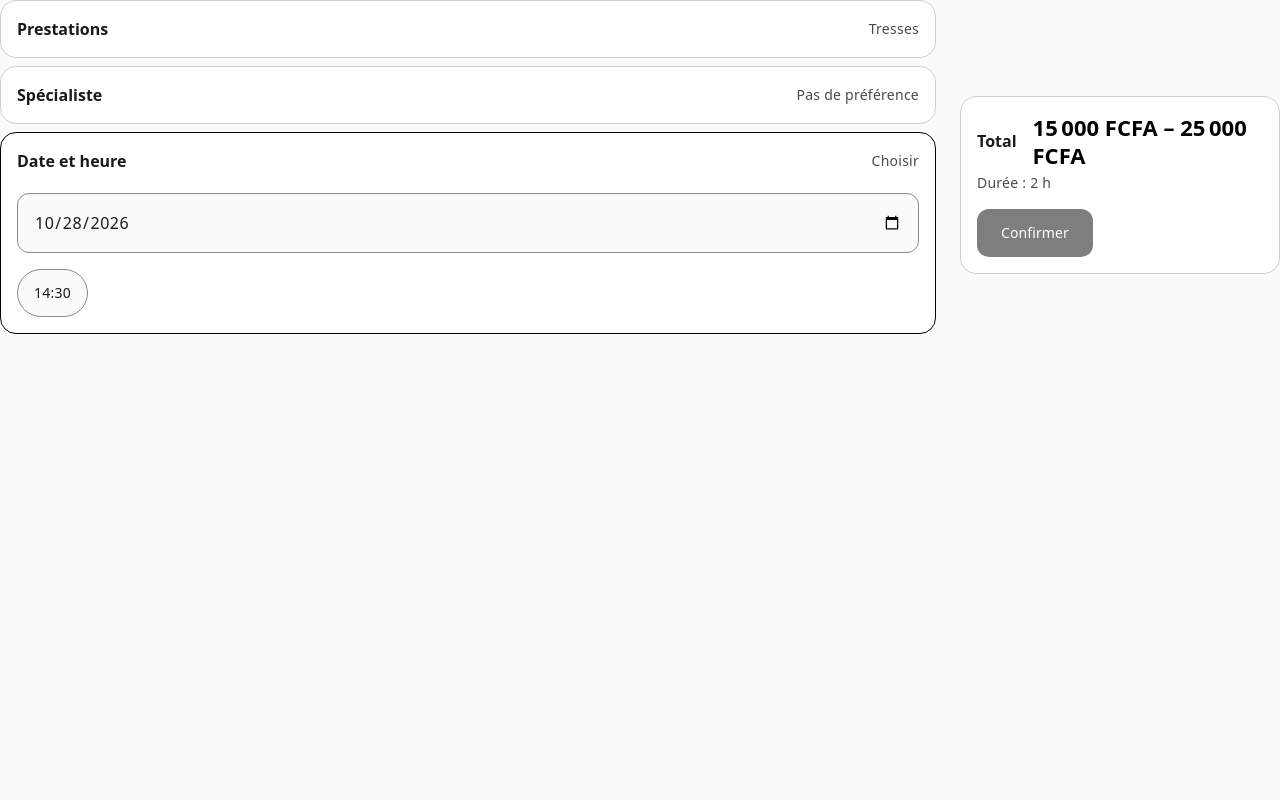
« Réserver » — the contact phone at the confirm step › the server’s invalid_phone lands under the field — no booking is attempted
Click the button "14:30" at {"x": 52, "y": 293}, box [17,269,88,317]
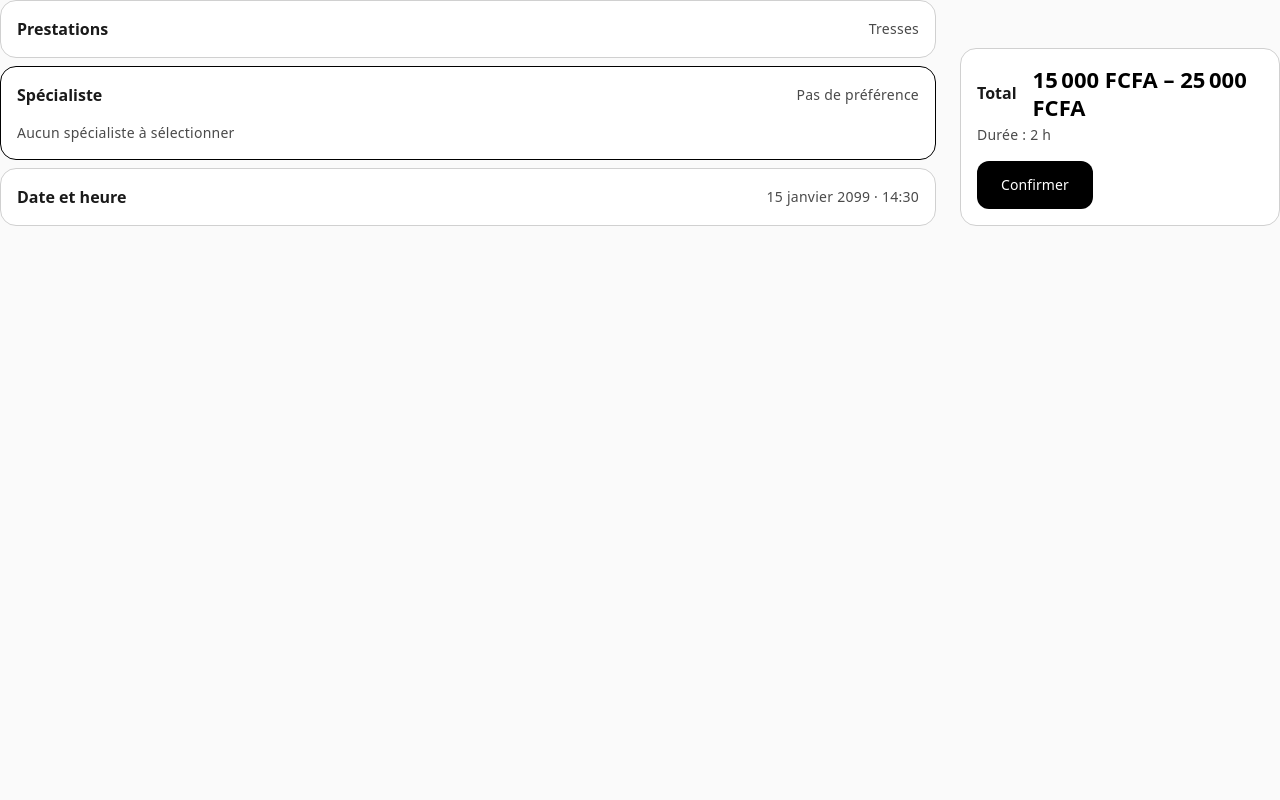
Click the button "Confirmer" at {"x": 1035, "y": 185}, box [977,161,1093,209]
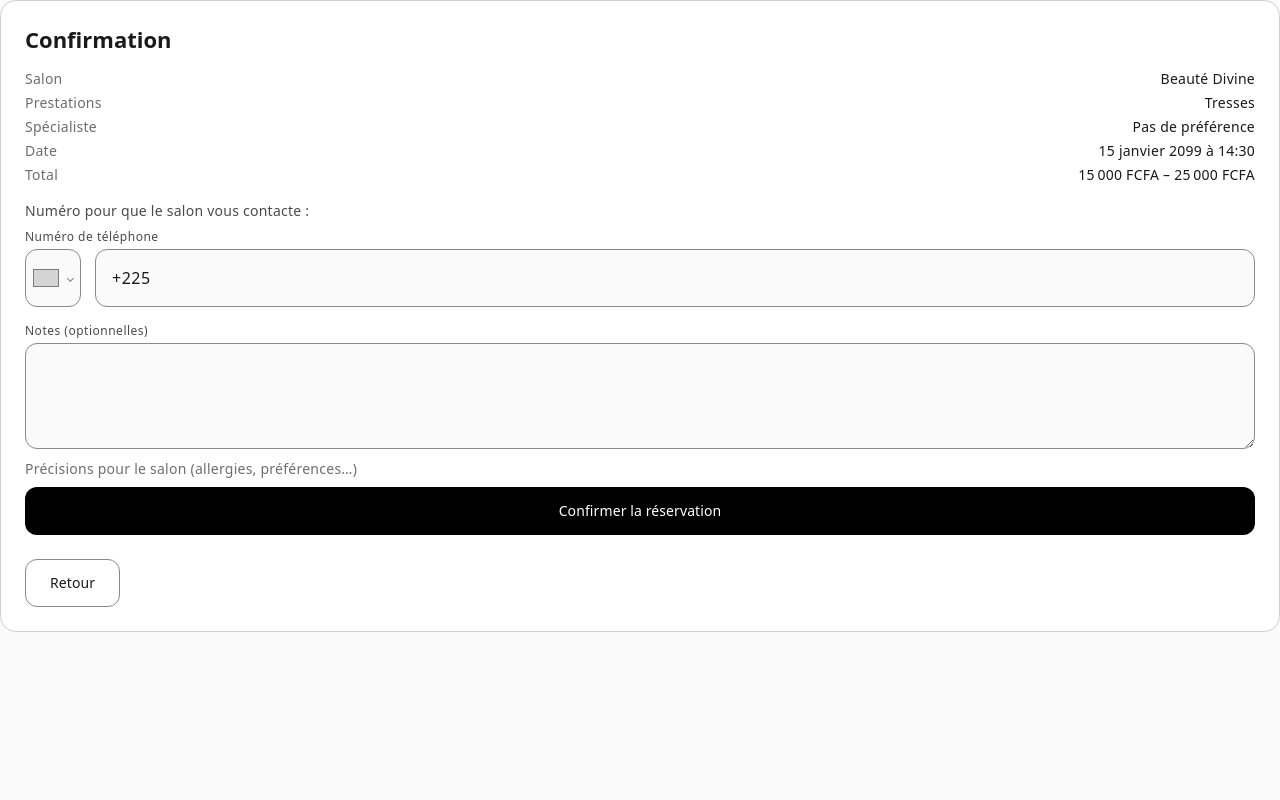
Replace the text in the field labelled "Numéro de téléphone" with "+2250707123499" at {"x": 675, "y": 278}, box [95,249,1255,307]
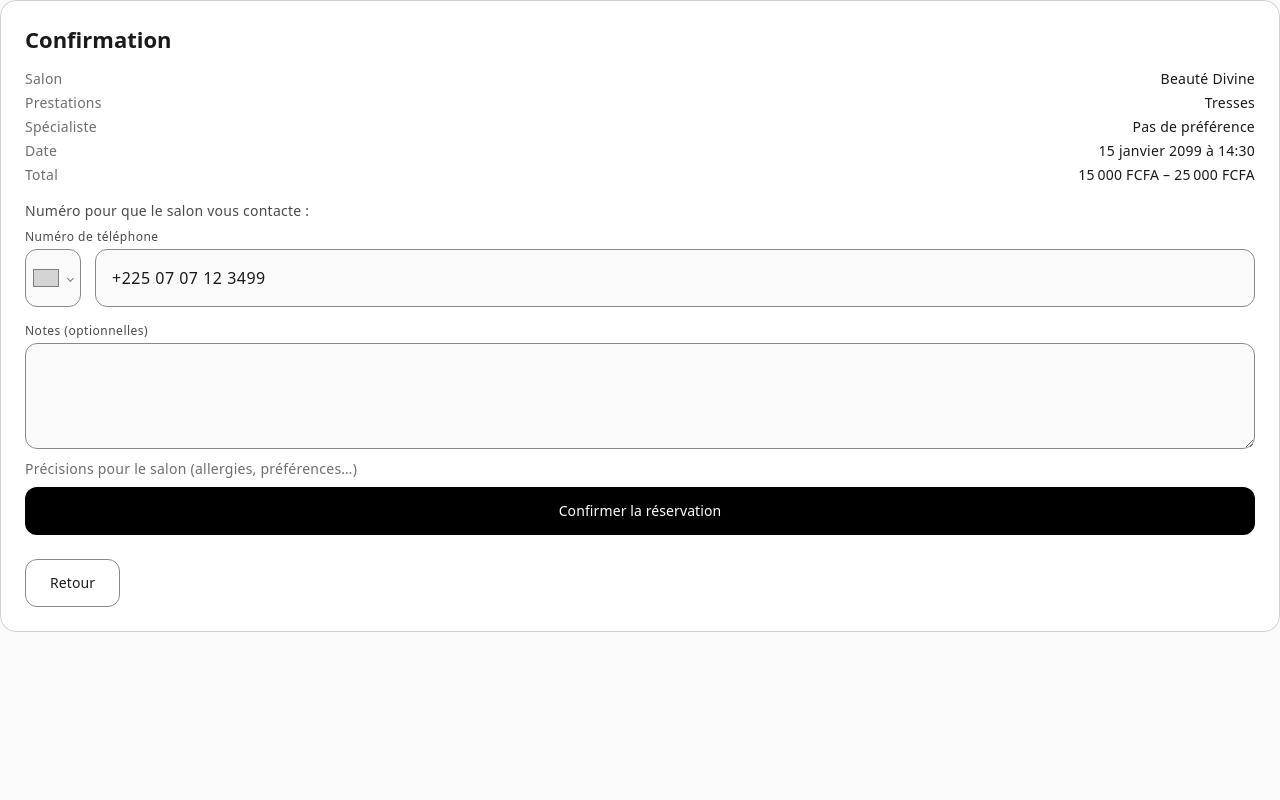
Click the button "Confirmer la réservation" at {"x": 640, "y": 511}, box [25,487,1255,535]
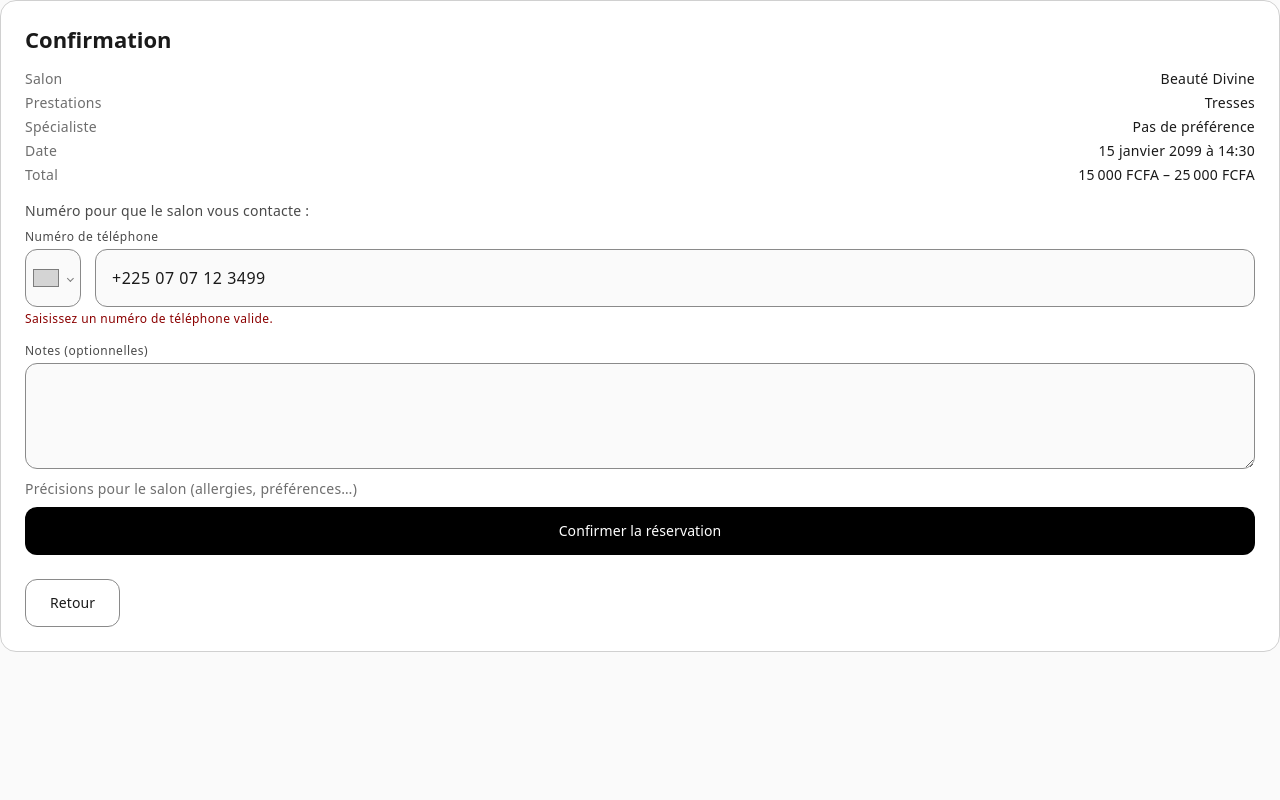
Check: the text "Saisissez un numéro de téléphone valide." is shown, box [25,310,273,327]
